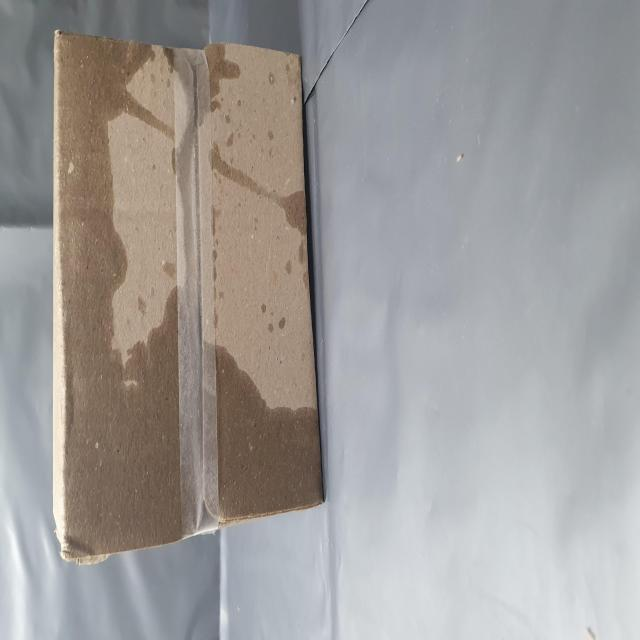wet: (47, 107, 339, 562)
